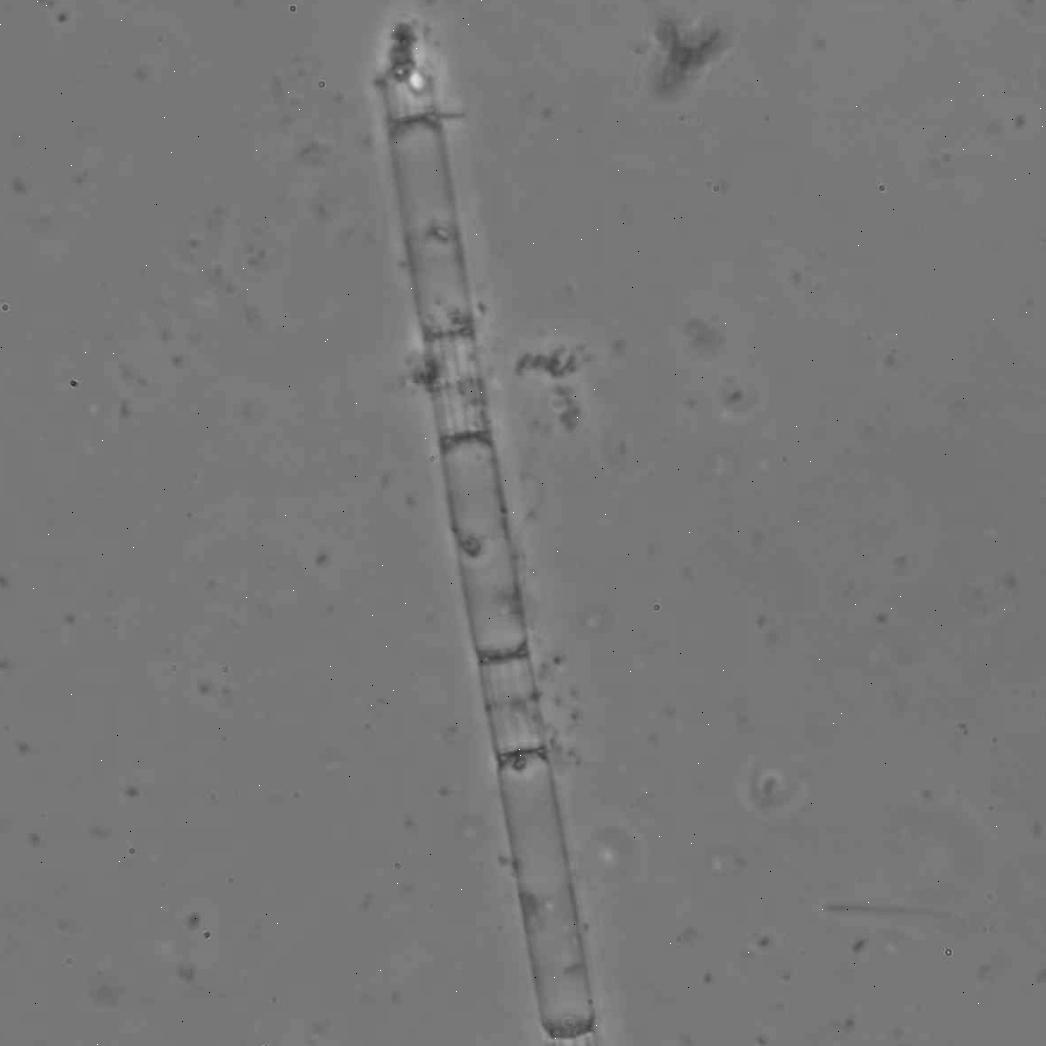skeletonema_costatum: (373, 23, 597, 1046)
